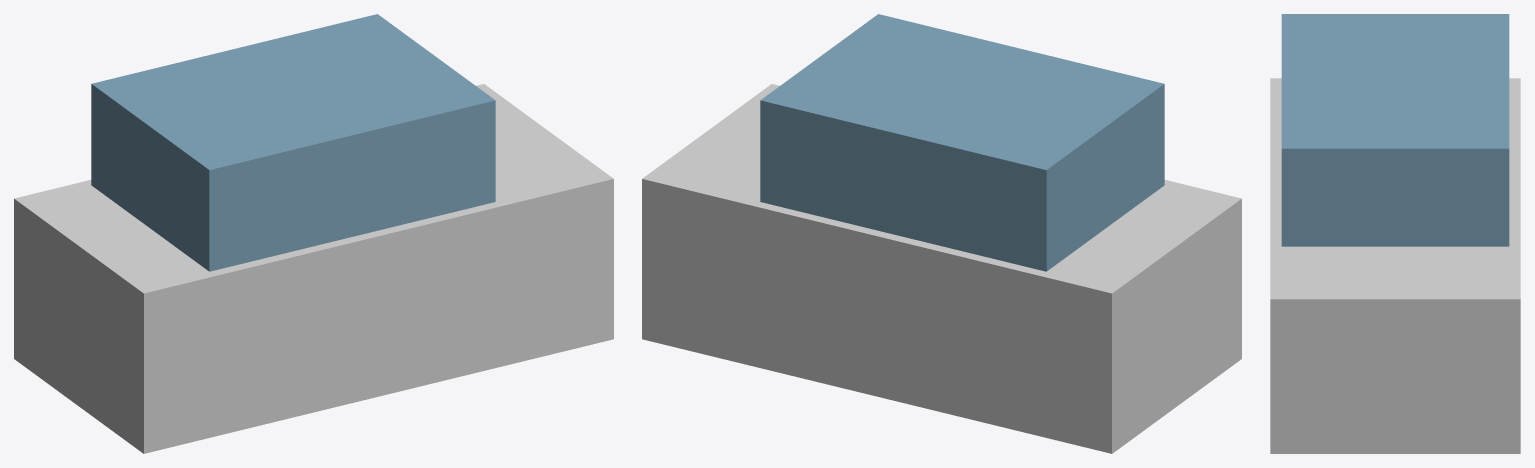
Rendered from carro.glb.
3 renders of one model, left to right at view 1: azimuth 30°, elevation 25°; view 2: azimuth 150°, elevation 25°; view 3: azimuth 270°, elevation 25°, orthographic. The views are drawn at different scales.
Size of the model in its own units: 4.6 by 2.45 by 2.2.
